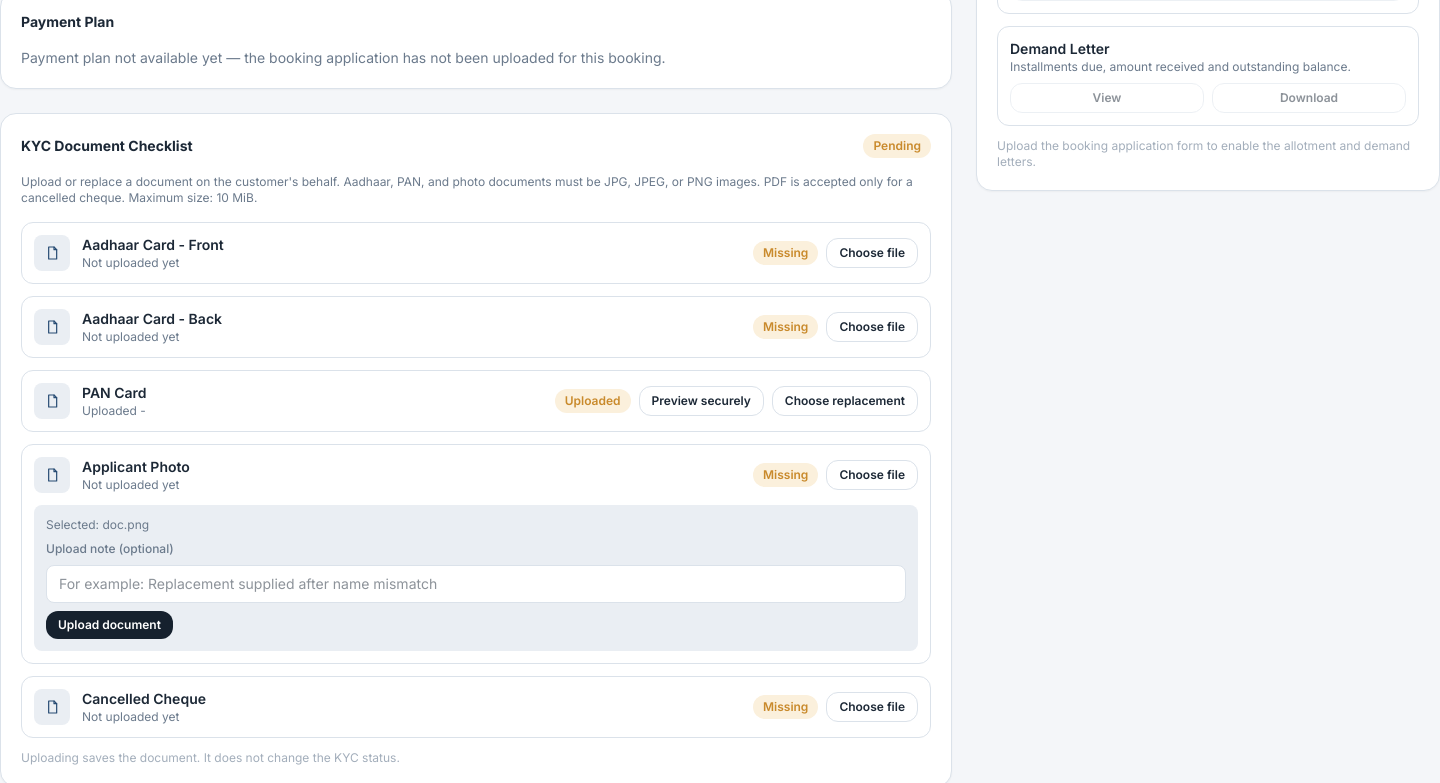
Test: BookingDetailPage - uploading KYC documents › keeps the uploaded version when an older load (a preview) arrives late
Earlier steps of the test are not shown.
Later steps or results of the test are not shown.
(page scrolled)
Click the button "Upload document" at coordinates (109, 625), box x1=46 y1=611 x2=173 y2=639
(page scrolled)
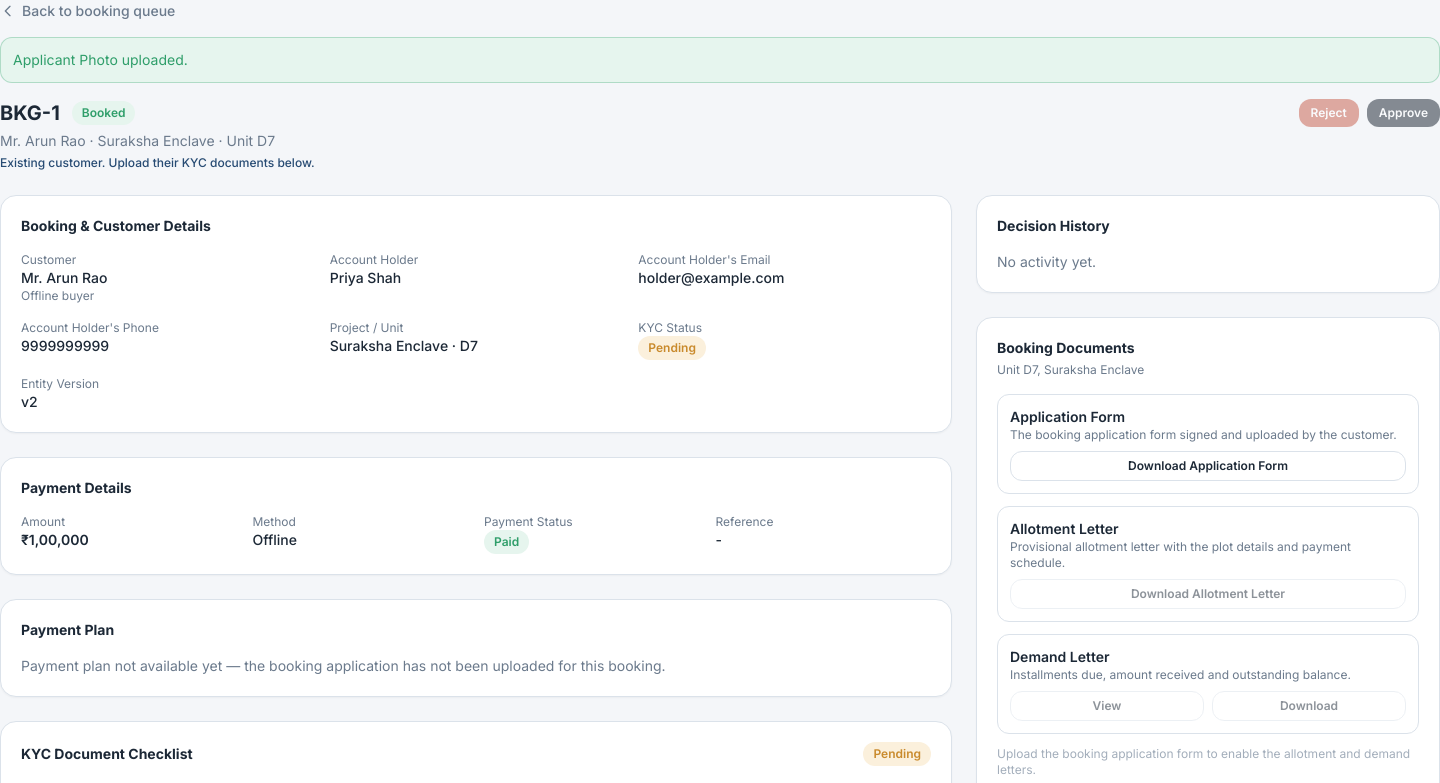
expect the text "Applicant Photo uploaded." is shown: met, box x1=0 y1=37 x2=1439 y2=83
